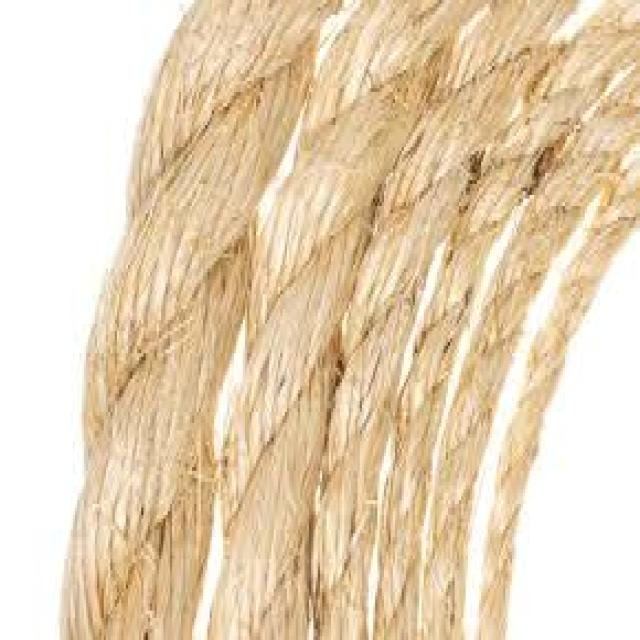rope: (57, 0, 640, 640)
